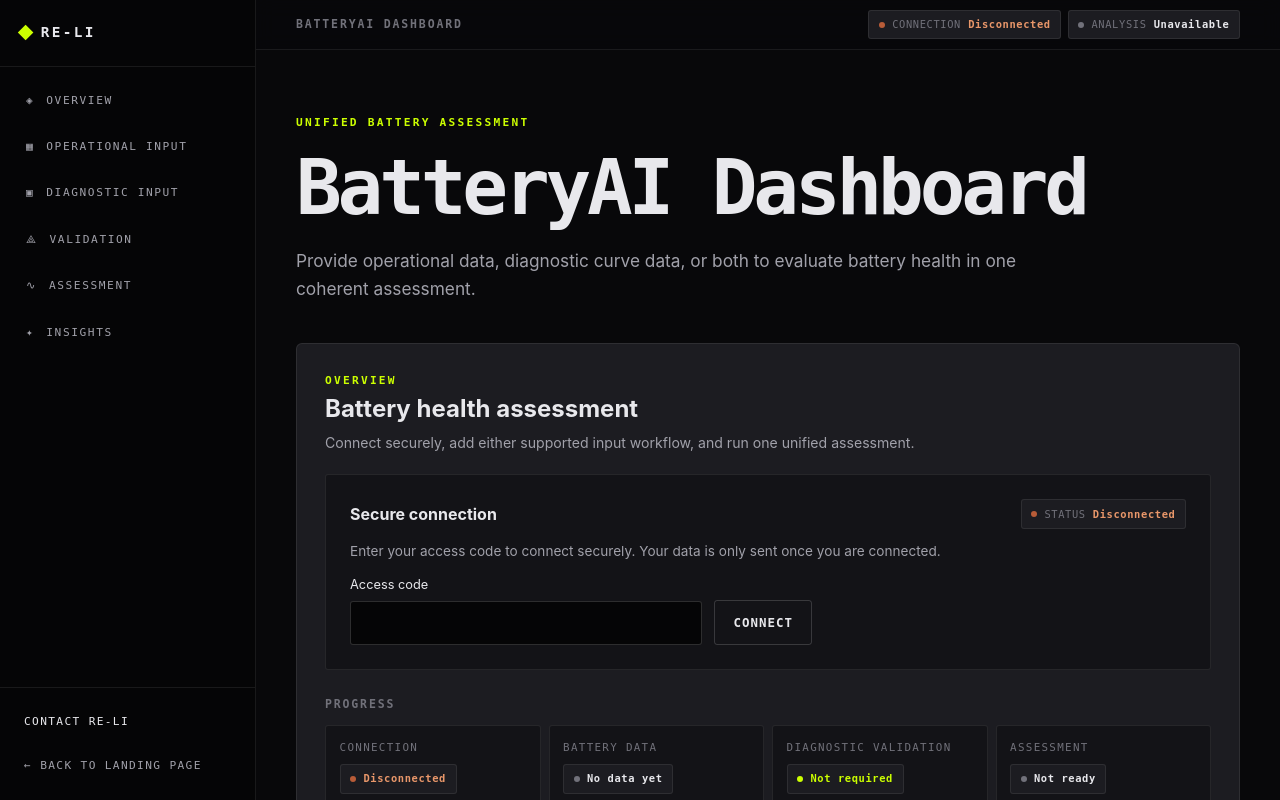
Test case: dashboard connection › reports a rejected access code in customer language
This screenshot has width=1280, height=800.
Expected: the heading "Battery health assessment" is shown, [325,394,638,423]
Type "wrong" into the password field labelled "Access code".
click(526, 623); type("wrong")  # box [350,601,702,645]
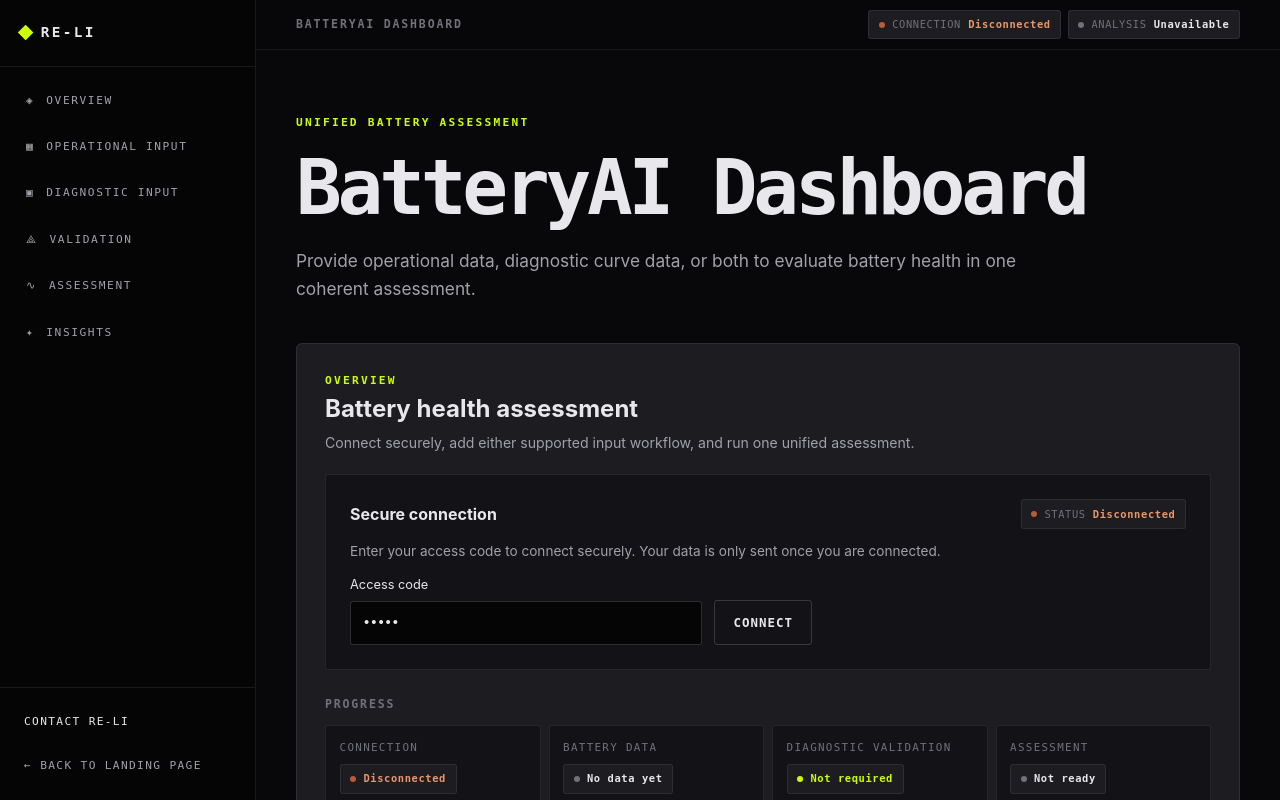
Click the button "Connect".
click(763, 622)  # box [714,600,812,645]
(page scrolled)
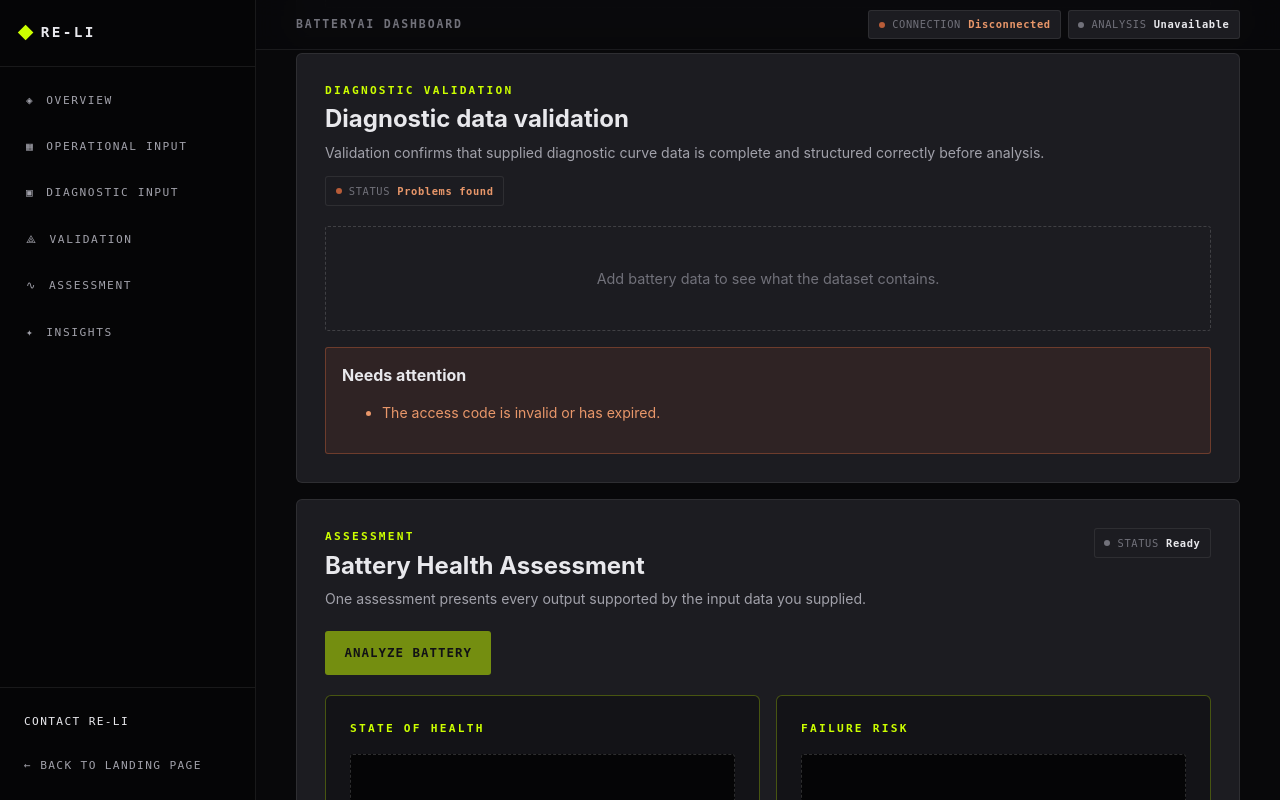
Now the message shows "The access code is invalid or has expired.", box [382,404,660,421]
